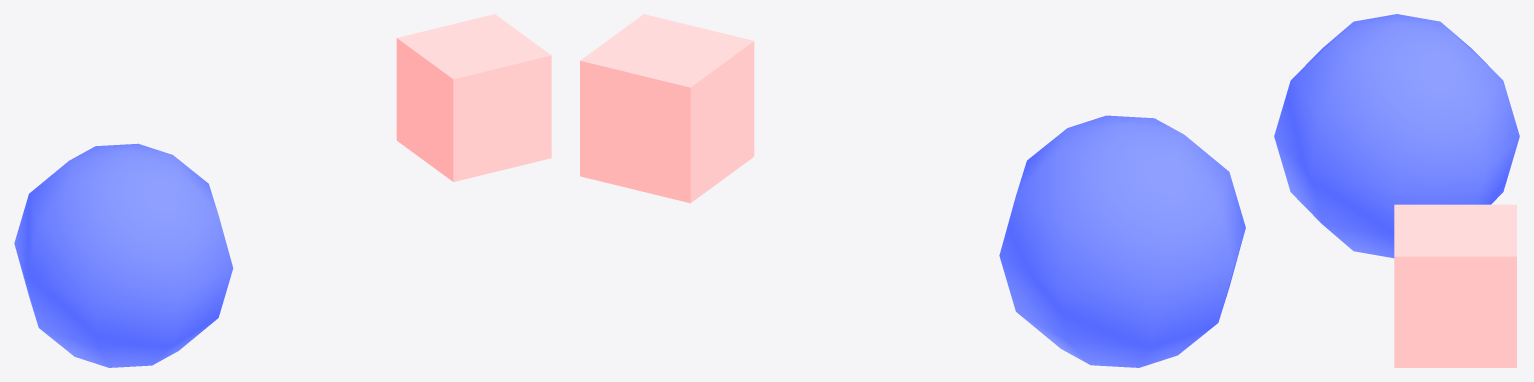
3 views of the same model, side by side, from view 1: azimuth 30°, elevation 25°; view 2: azimuth 150°, elevation 25°; view 3: azimuth 270°, elevation 25° (orthographic). The views are drawn at different scales.
Parts seen in each view (by area): view 1: Sphere, Box; view 2: Sphere, Box; view 3: Sphere, Box.
Boxes of the visible parts, left/top/right/bottom form: Sphere: left=14, top=143, right=233, bottom=367; Box: left=396, top=14, right=551, bottom=181; Sphere: left=999, top=115, right=1245, bottom=367; Box: left=580, top=14, right=754, bottom=203; Sphere: left=1274, top=14, right=1519, bottom=258; Box: left=1394, top=204, right=1516, bottom=367.
Bounding box in the file's own units: 5.34 × 2 × 2.
